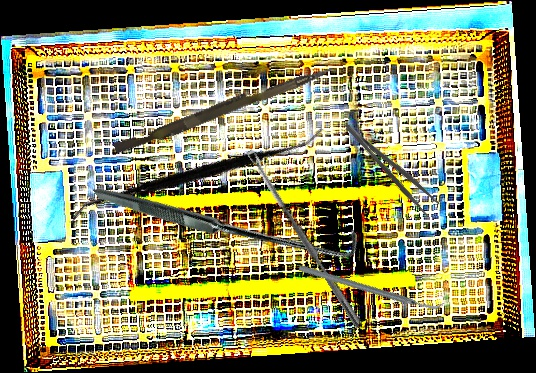Chopper: (297, 216, 447, 358)
Dressing Forceps: (342, 113, 442, 220)
Hook Surgical: (92, 78, 365, 357)
Pusher: (113, 57, 334, 160)
Spatula Surgical: (68, 43, 325, 309)
Surgical Spoon: (246, 147, 364, 330)
